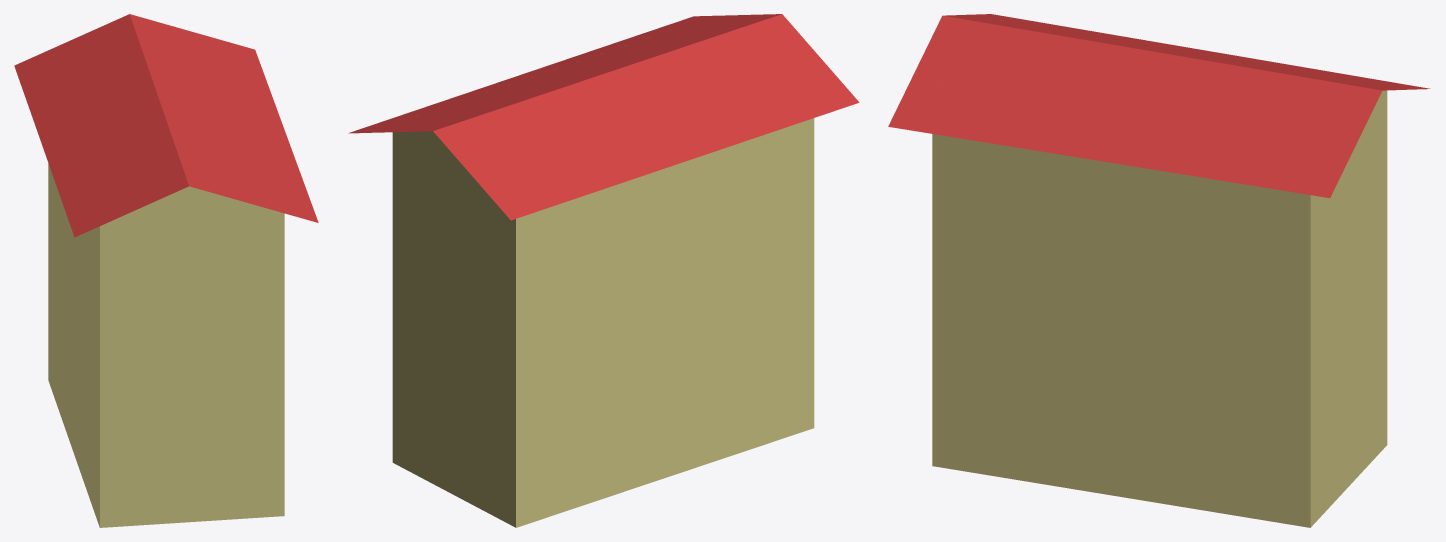
The picture shows the model from 3 angles, left to right: view 1: azimuth 30°, elevation 25°; view 2: azimuth 150°, elevation 25°; view 3: azimuth 270°, elevation 25°; orthographic projection. The views are drawn at different scales.
Parts seen in each view (by area): view 1: group_5, group_3, group_4; view 2: group_5, group_3, group_4; view 3: group_5, group_3, group_4.
Boxes of the visible parts, x1,y1,x2,y2 form: group_5: [48, 163, 284, 527]; group_3: [48, 14, 284, 211]; group_4: [14, 14, 318, 237]; group_5: [392, 24, 814, 527]; group_3: [394, 14, 813, 188]; group_4: [348, 14, 859, 220]; group_5: [932, 20, 1387, 527]; group_3: [932, 16, 1385, 197]; group_4: [888, 14, 1430, 197].
Bounding box in the file's own units: 6.33 × 7.92 × 6.42.
